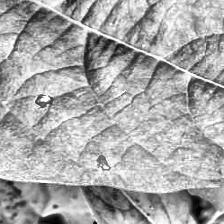ALS: (0, 0, 224, 183)
